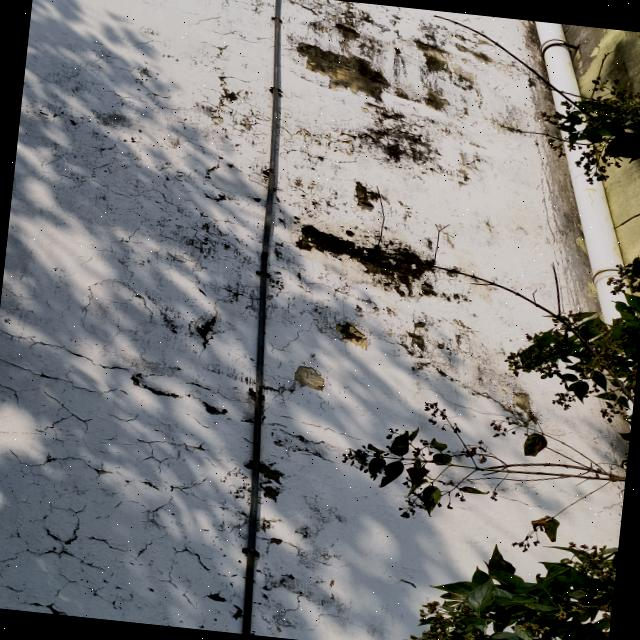pollution -moisture induced blackening: (253, 0, 629, 640), (0, 0, 273, 633)
